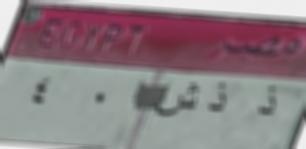0: (84, 87, 118, 113)
4: (25, 73, 57, 112)
sheen: (156, 83, 200, 122)
zaal: (250, 82, 289, 121), (206, 81, 231, 120)
